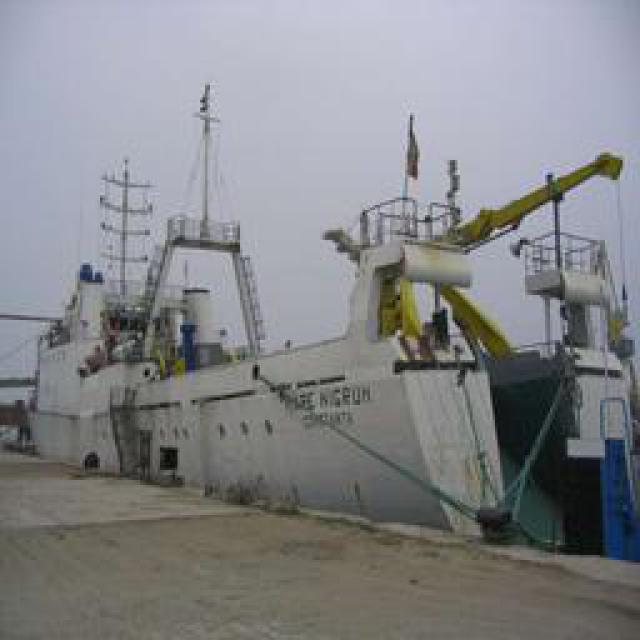Ship: (20, 69, 640, 568)
